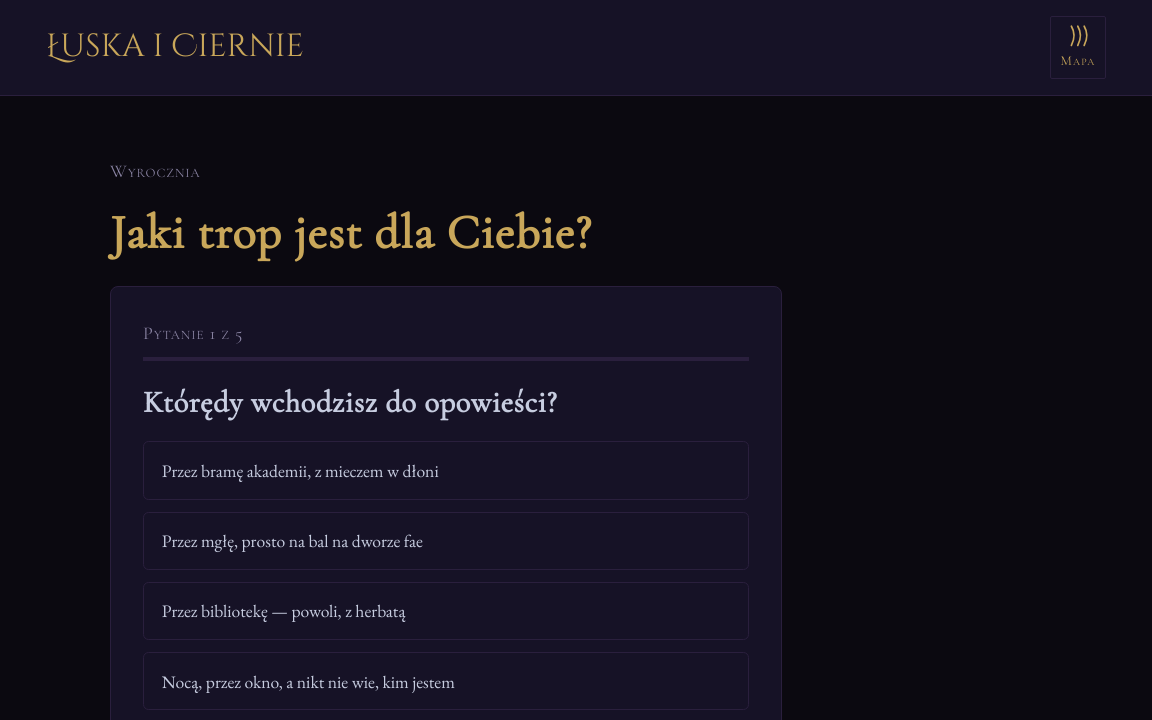
Test: Wyrocznia (RenderMode.Client) › „Poprzednie pytanie” cofa o krok
Click the button "Przez bibliotekę — powoli, z herbatą". click: (284, 611)
box: top-left (143, 582), bottom-right (749, 640)
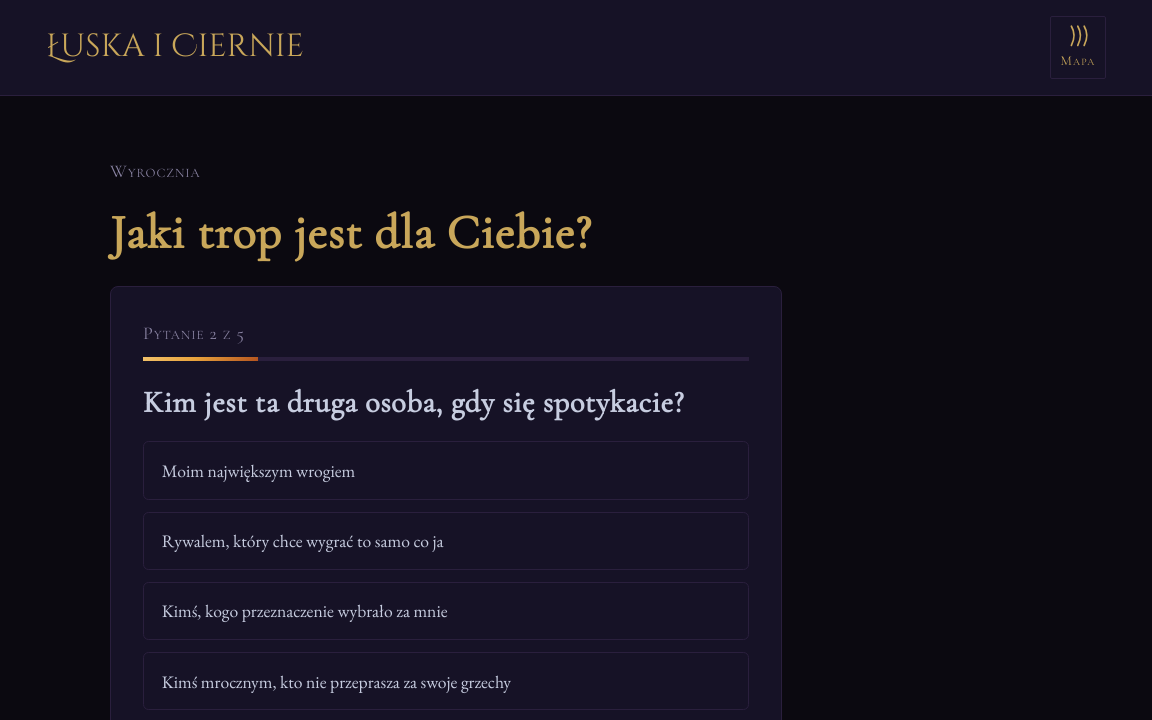
Expected: the text "Pytanie 2 z 5" is shown, top-left (143, 322), bottom-right (245, 344)
Scroll
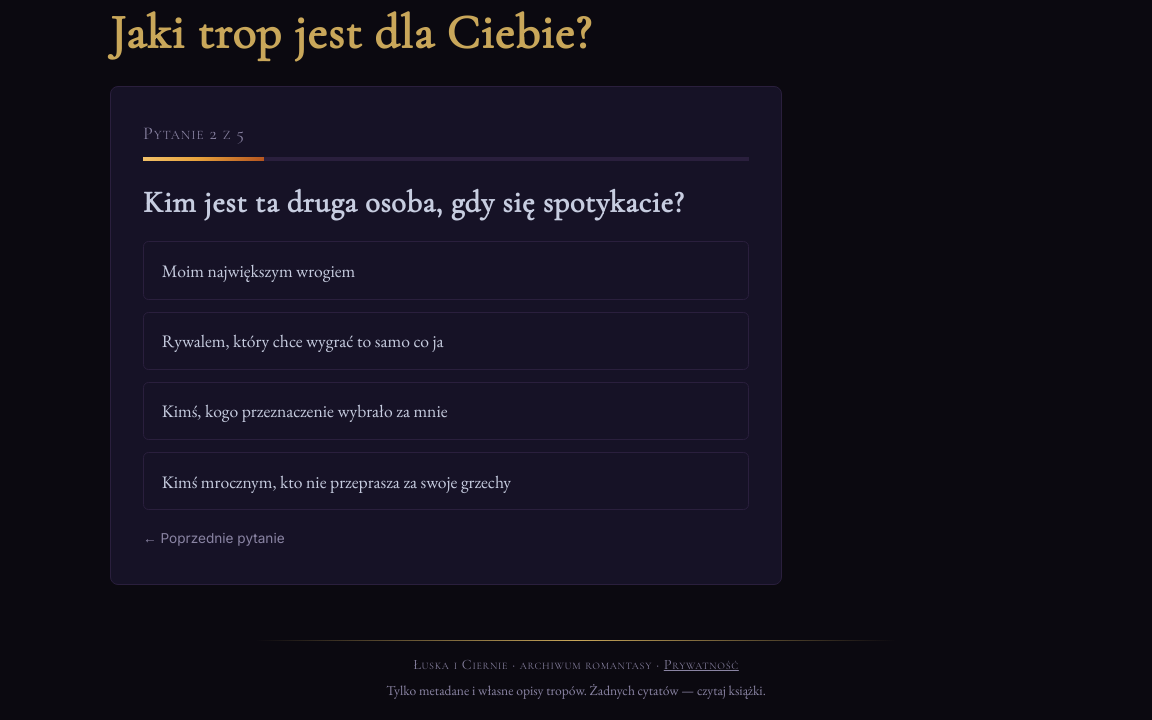
Click the button "← Poprzednie pytanie". click: (214, 538)
box: top-left (143, 530), bottom-right (285, 546)
(page scrolled)
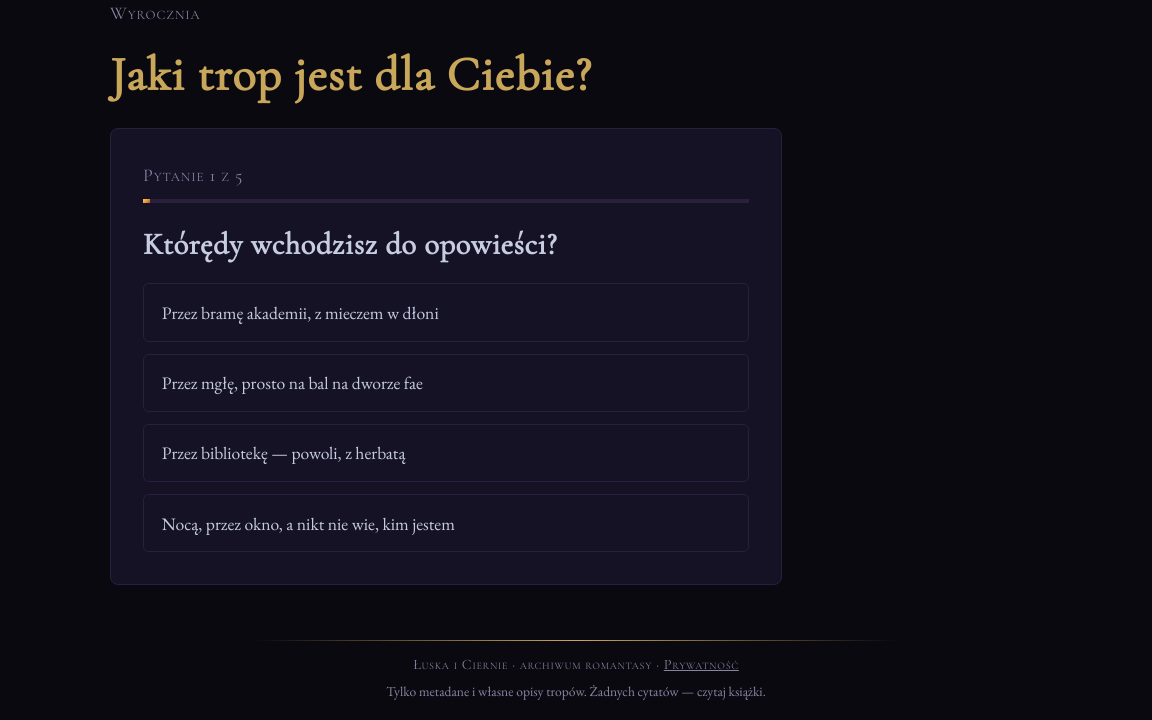
Expected: the text "Pytanie 1 z 5" is shown, top-left (143, 164), bottom-right (243, 186)
Expected: the button "Poprzednie pytanie" is gone
